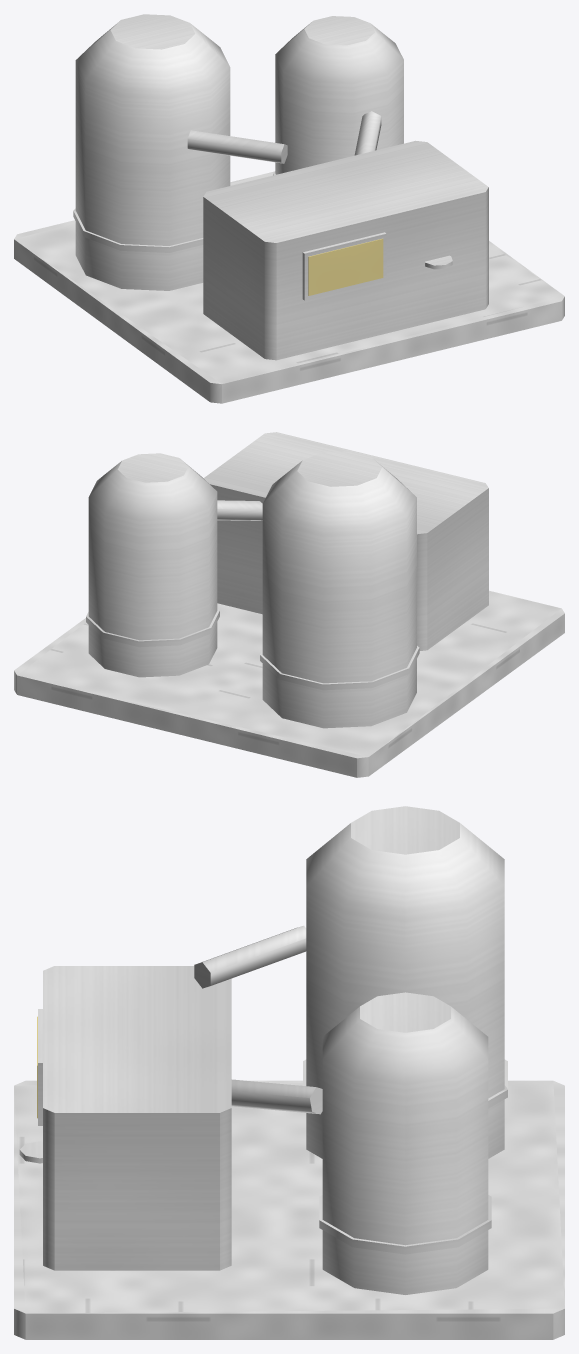
The model's file is biofuel_refinery.obj.
3 renders of one model, top to bottom at view 1: azimuth 30°, elevation 25°; view 2: azimuth 150°, elevation 25°; view 3: azimuth 270°, elevation 25°, orthographic. The views are drawn at different scales.
Parts seen in each view (by area): view 1: work_cabinet, process_tank, foundation, chemfuel_tank, control_light, process_pipe, control_frame, process_tank_band, fuel_pipe; view 2: process_tank, foundation, chemfuel_tank, work_cabinet, process_tank_band, chemfuel_tank_band, fuel_pipe; view 3: foundation, work_cabinet, chemfuel_tank, process_tank, process_pipe, fuel_pipe, chemfuel_tank_band.
Part boxes in pixels (x1,y1,x2,y2): work_cabinet: (203,140,488,360); process_tank: (75,14,230,290); foundation: (14,171,564,403); chemfuel_tank: (275,16,403,174); control_light: (308,238,383,295); process_pipe: (187,130,287,163); control_frame: (302,232,386,300); process_tank_band: (73,208,203,252); fuel_pipe: (354,111,381,155); process_tank: (262,451,416,728); foundation: (14,590,564,777); chemfuel_tank: (88,453,217,677); work_cabinet: (203,432,488,650); process_tank_band: (260,646,419,690); chemfuel_tank_band: (86,608,219,647); fuel_pipe: (217,500,262,520); foundation: (14,1080,564,1339); work_cabinet: (43,966,231,1270); chemfuel_tank: (322,992,488,1294); process_tank: (306,806,504,1158); process_pipe: (194,925,306,988); fuel_pipe: (231,1079,322,1114); chemfuel_tank_band: (319,1195,491,1254).
Bounding box in the file's own units: 1.9 × 1.26 × 1.9.
